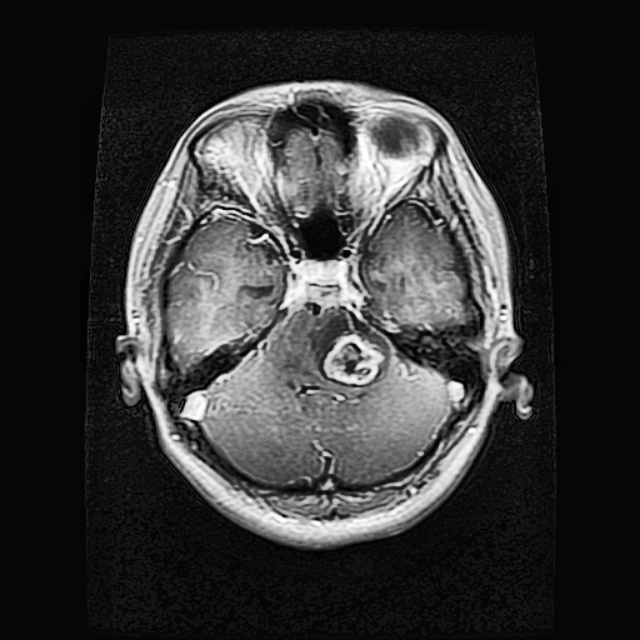Glioma: (322, 334, 384, 388)
